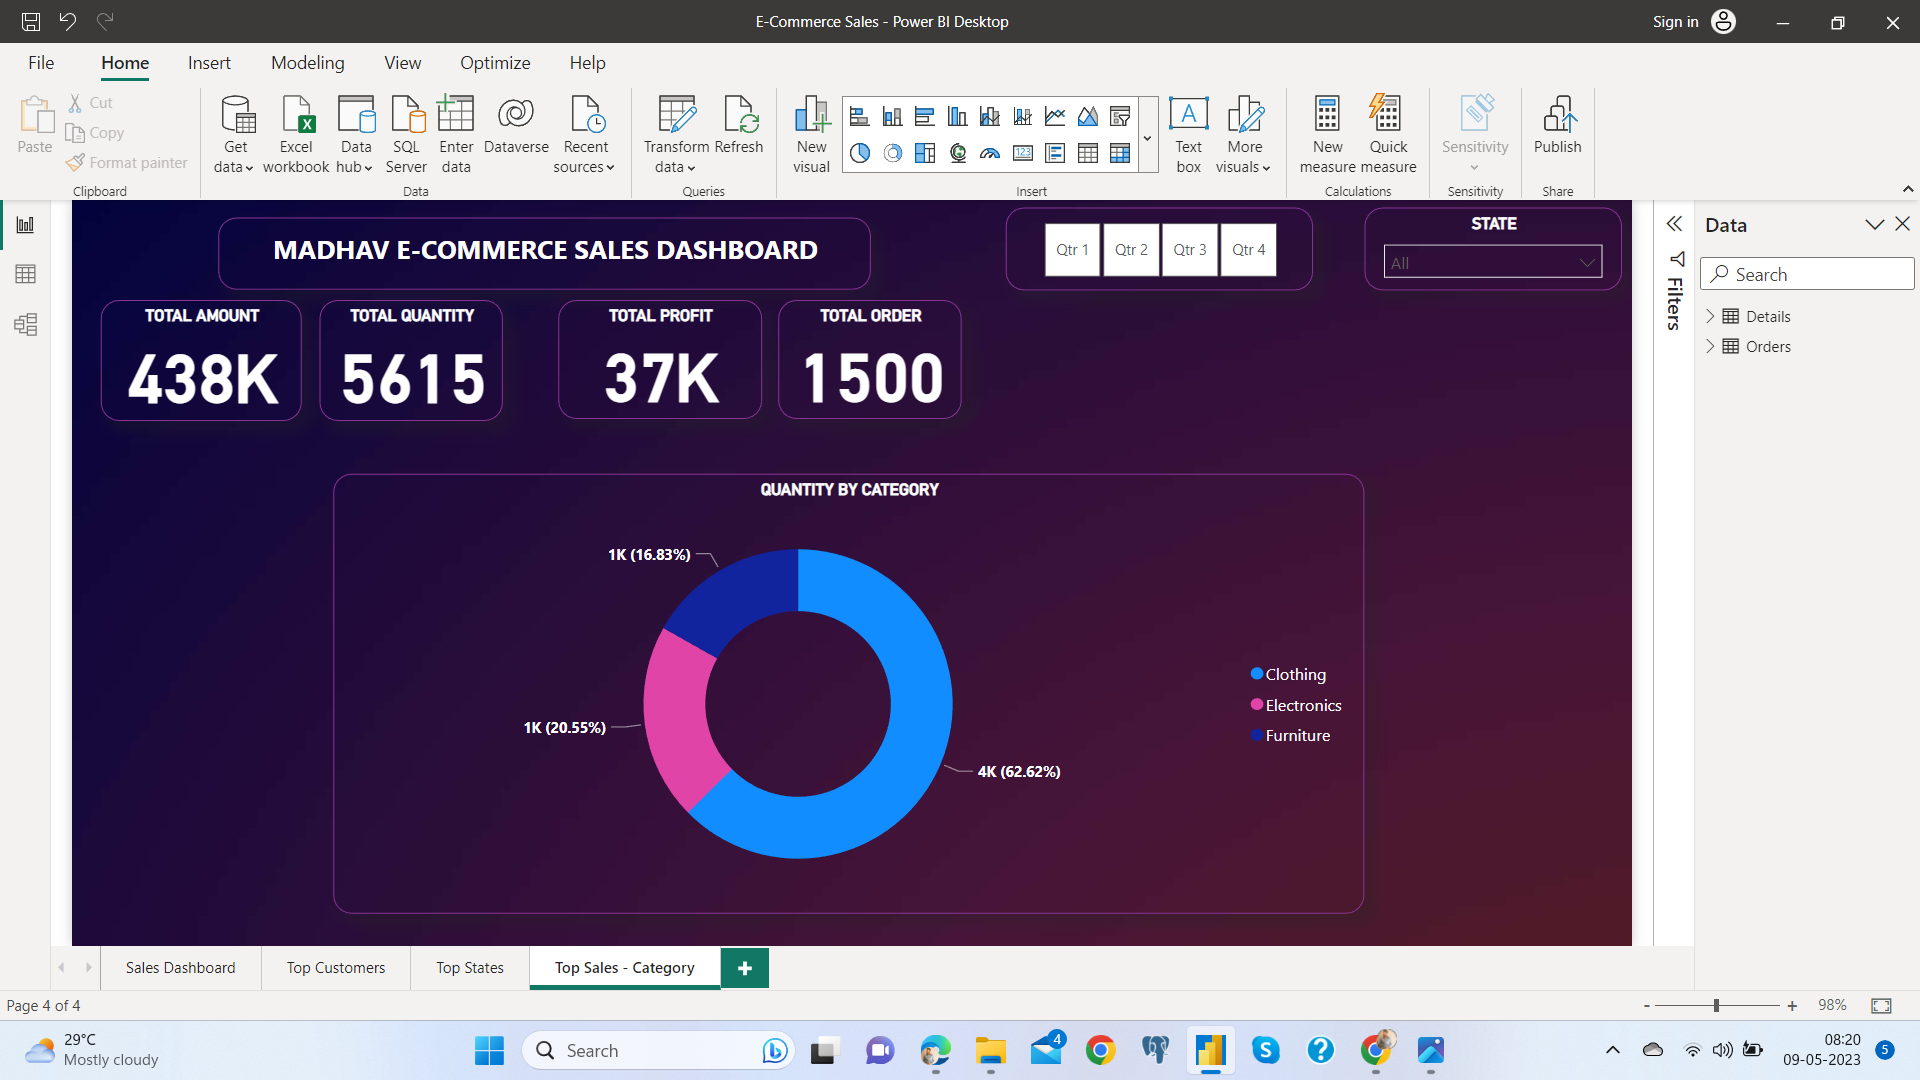

The dashboard page shown, as its layout file describes it:
{"tool":"powerbi","page":{"name":"Top Sales - Category","canvas":[1280,612],"ordinal":3},"visuals":[{"type":"textbox","box":[119.9,14.4,535.1,59.5],"z":0},{"type":"donutChart","title":"QUANTITY BY CATEGORY","fields":{"Category":["Details.Category"],"Y":["Sum(Details.Quantity)"]},"box":[214.3,224.5,845.7,360.8],"z":3000},{"type":"card","title":"TOTAL AMOUNT","fields":{"Values":["Sum(Details.Amount)"]},"box":[23.6,82,165,99.4],"z":5000},{"type":"card","title":"TOTAL QUANTITY","fields":{"Values":["Sum(Details.Quantity)"]},"box":[203,82,150.7,99.4],"z":6000},{"type":"card","title":"TOTAL PROFIT","fields":{"Values":["Sum(Details.Profit)"]},"box":[398.8,82,167.1,97.4],"z":7000},{"type":"slicer","fields":{"Values":["Orders.Order Date.Variation.Date Hierarchy.Quarter"]},"box":[765.8,6.2,252.2,67.7],"z":10000},{"type":"slicer","title":"STATE","fields":{"Values":["Orders.State"]},"box":[1060,6.2,211.2,67.7],"z":11000},{"type":"card","title":"TOTAL ORDER","fields":{"Values":["CountNonNull(Details.Order ID)"]},"box":[579.2,82,150.7,97.4],"z":12000}]}

Visuals, with their boxes on the page's 1280x612 design canvas (x1, y1, x2, y2). These are canvas units, not pixel positions in the 1920x1080 screenshot, which may show the page scaled, cropped or inside an application window:
textbox: Rect(120, 14, 655, 74)
"QUANTITY BY CATEGORY" donutChart: Rect(214, 224, 1060, 585)
"TOTAL AMOUNT" card: Rect(24, 82, 189, 181)
"TOTAL QUANTITY" card: Rect(203, 82, 354, 181)
"TOTAL PROFIT" card: Rect(399, 82, 566, 179)
slicer - Orders.Order Date.Variation.Date Hierarchy.Quarter: Rect(766, 6, 1018, 74)
"STATE" slicer: Rect(1060, 6, 1271, 74)
"TOTAL ORDER" card: Rect(579, 82, 730, 179)
